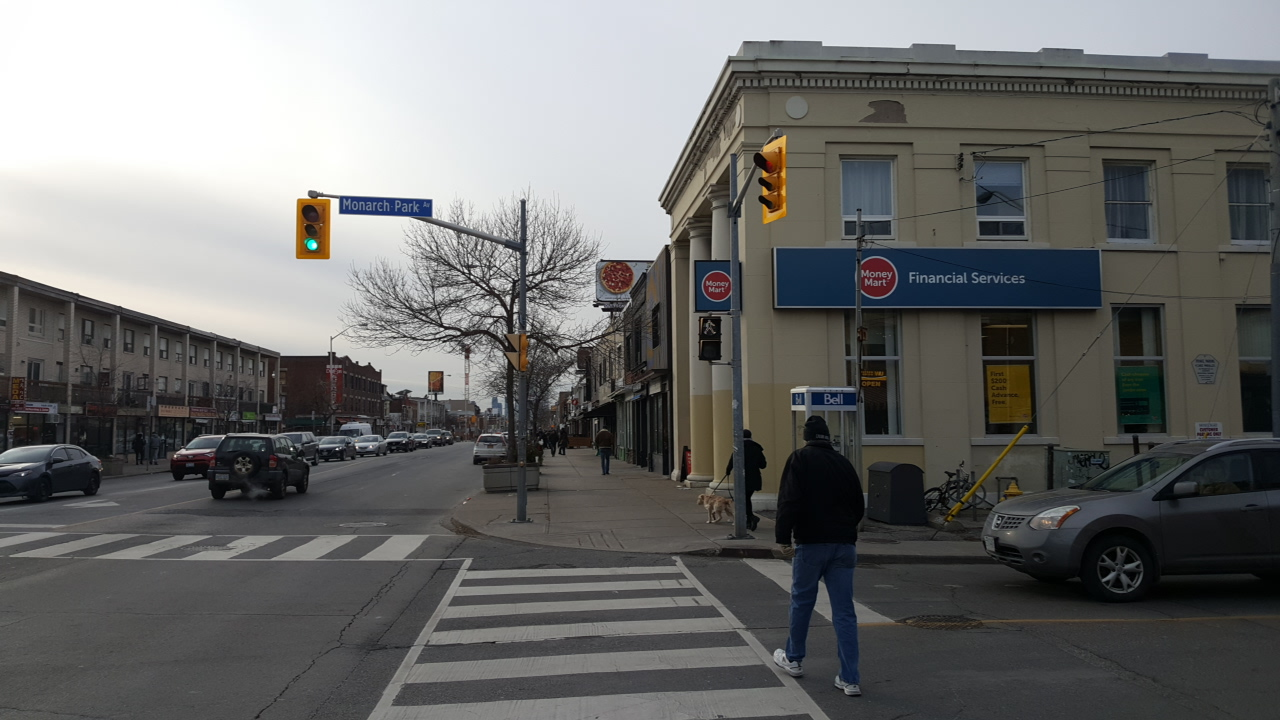light: (696, 313, 725, 365)
